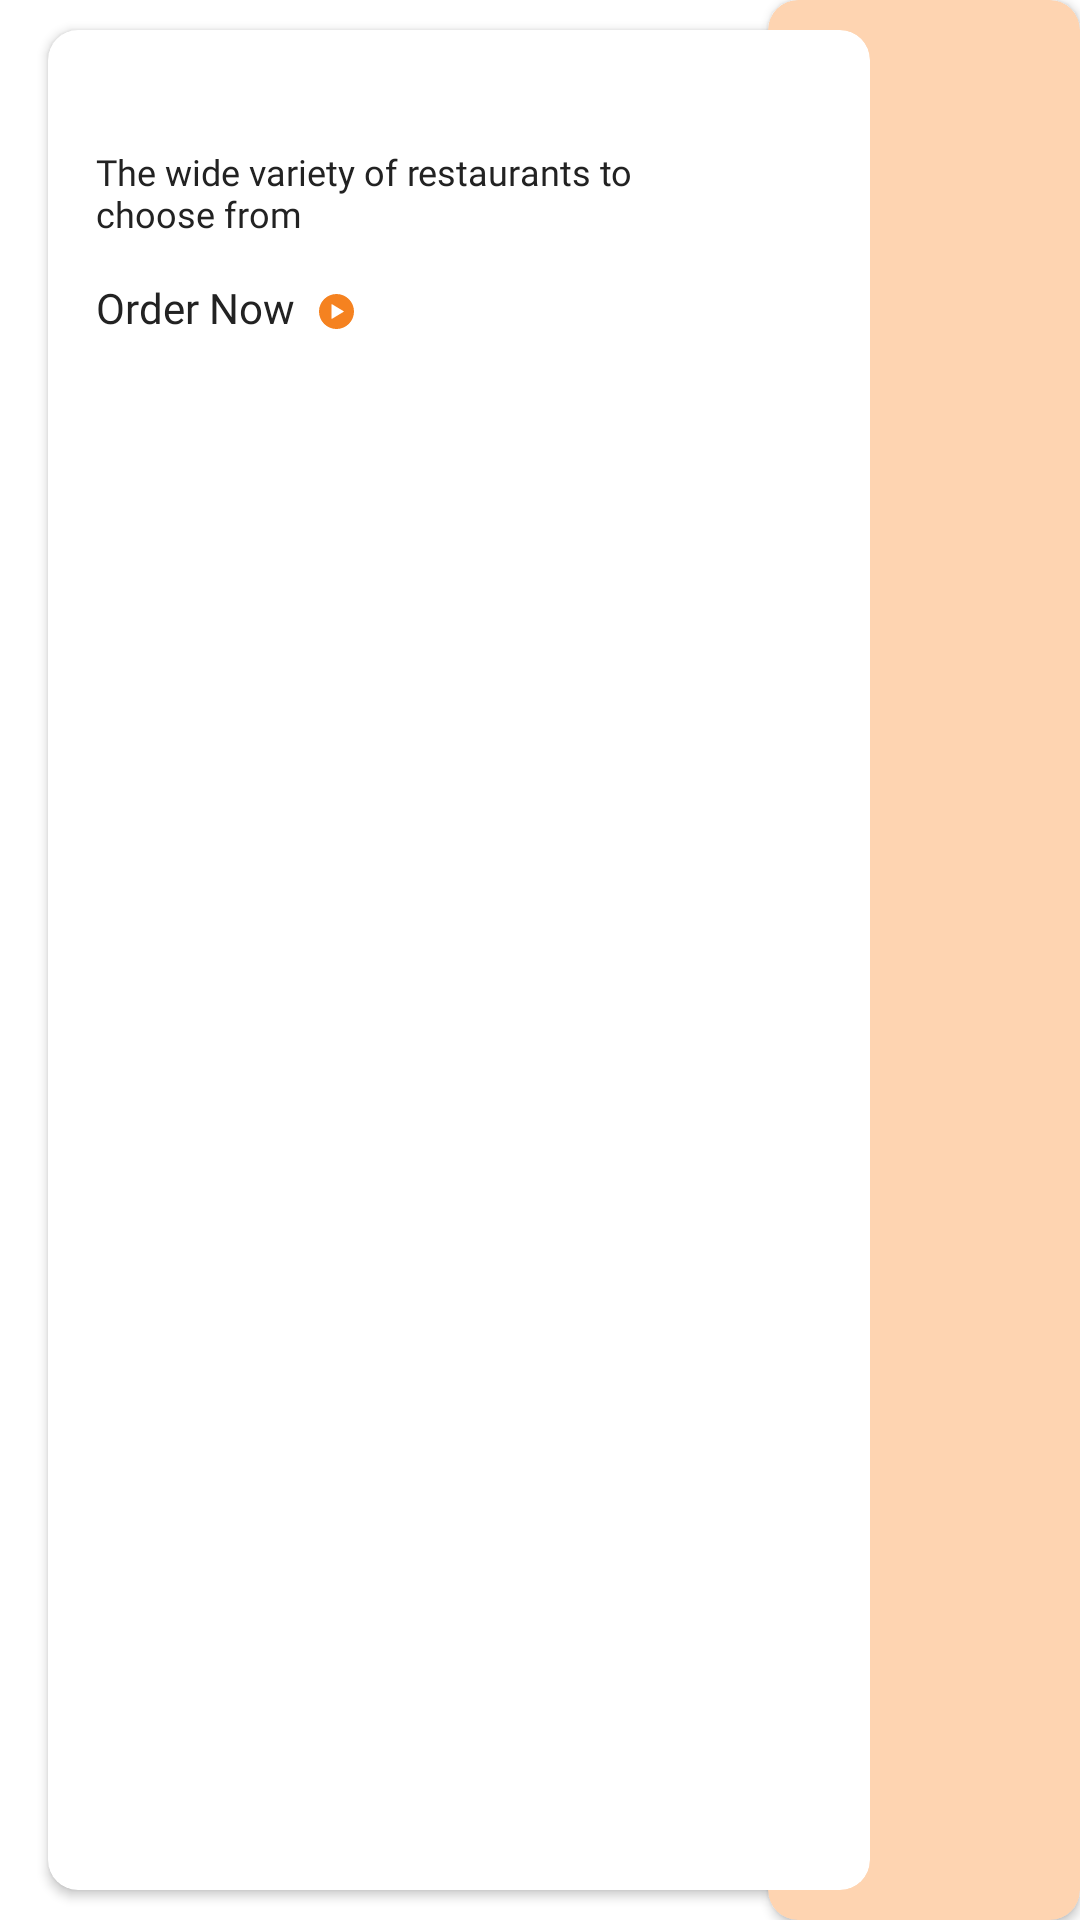

Icon click points for this 1080px x 1920px phone screenshot, format [x,y]:
playcircle: [336,311]
